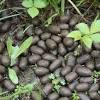Elk: (27, 31, 93, 92)
